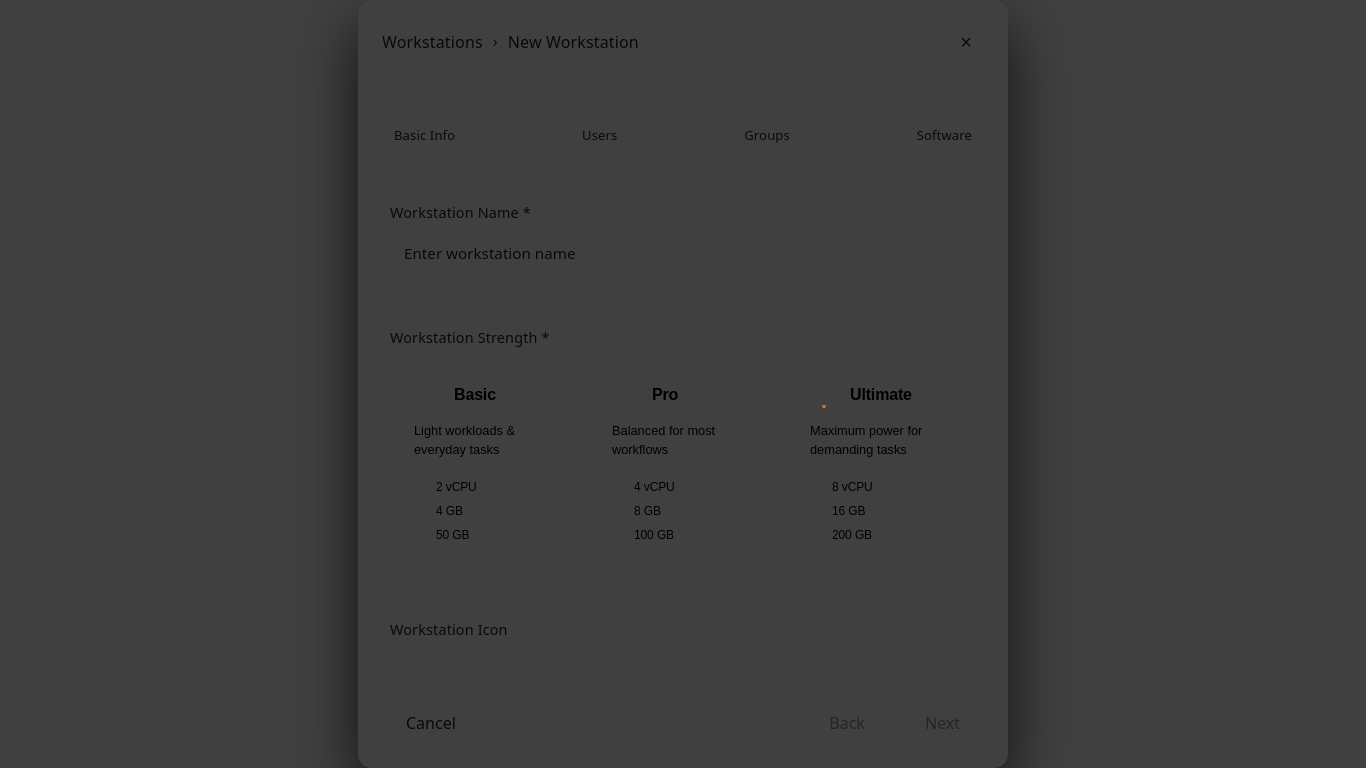
it: WorkstationModal › Navigation › should navigate to Groups step from Users step
This screenshot has width=1366, height=768.
Step 1. Type "Test" into the field with placeholder "Enter workstation name" → x=681, y=253, box x1=390 y1=231 x2=972 y2=275
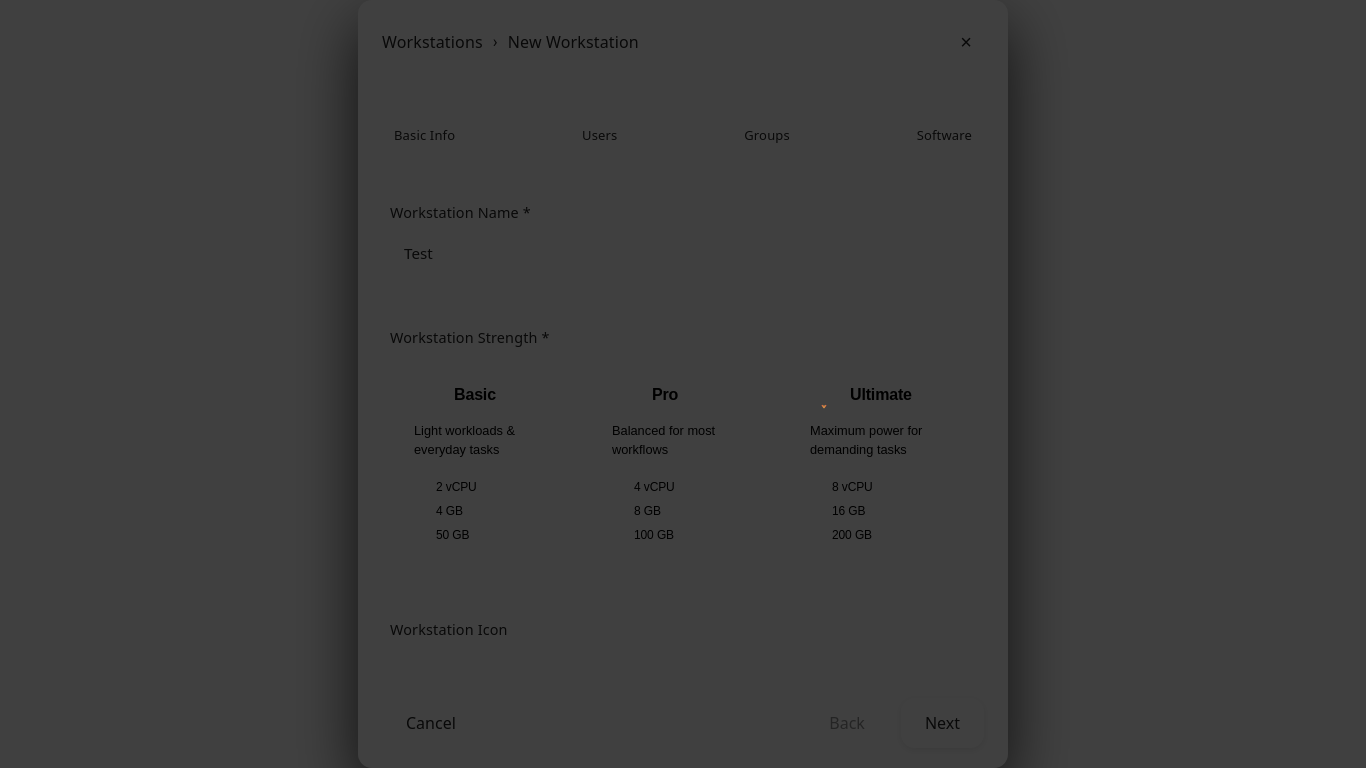
Step 2. Click the button "Next" → x=942, y=723, box x1=901 y1=698 x2=984 y2=748
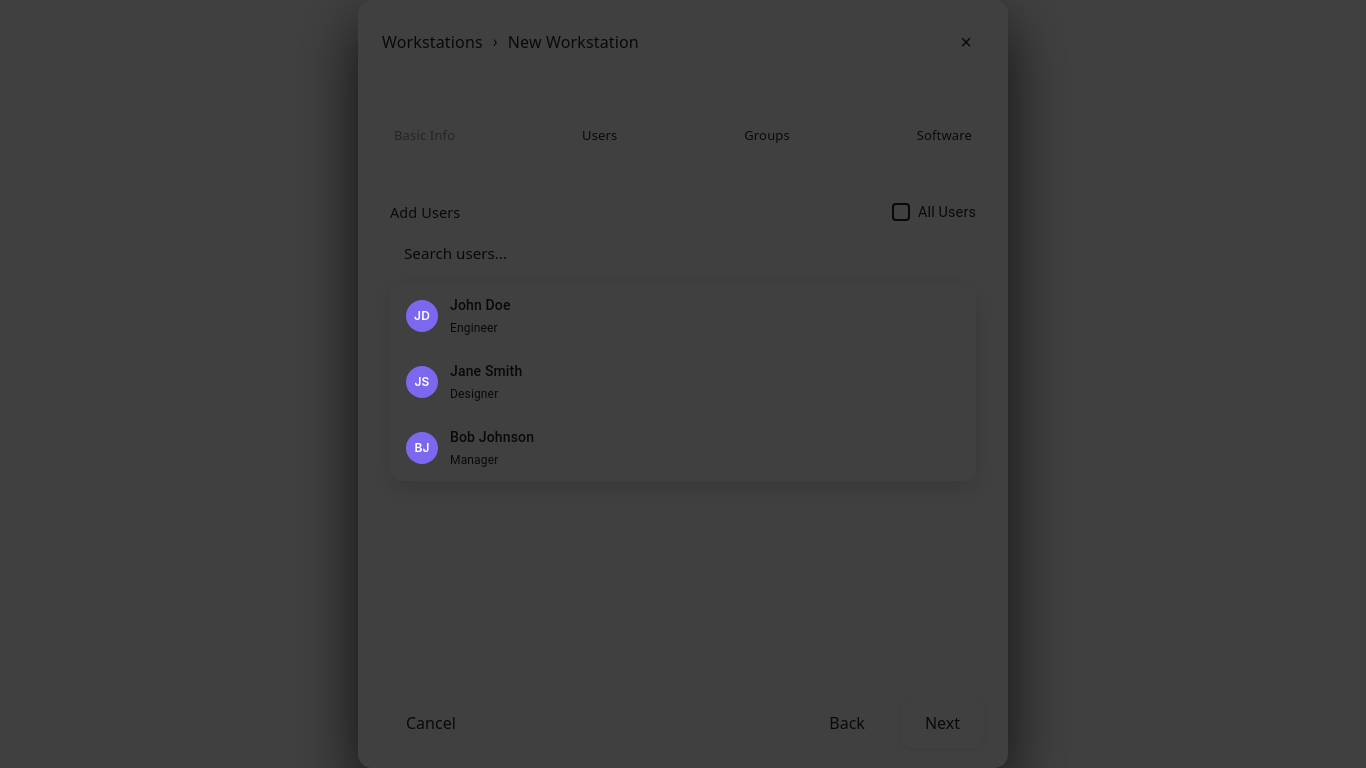
Step 3. Click the button "Next" → x=942, y=723, box x1=901 y1=698 x2=984 y2=748
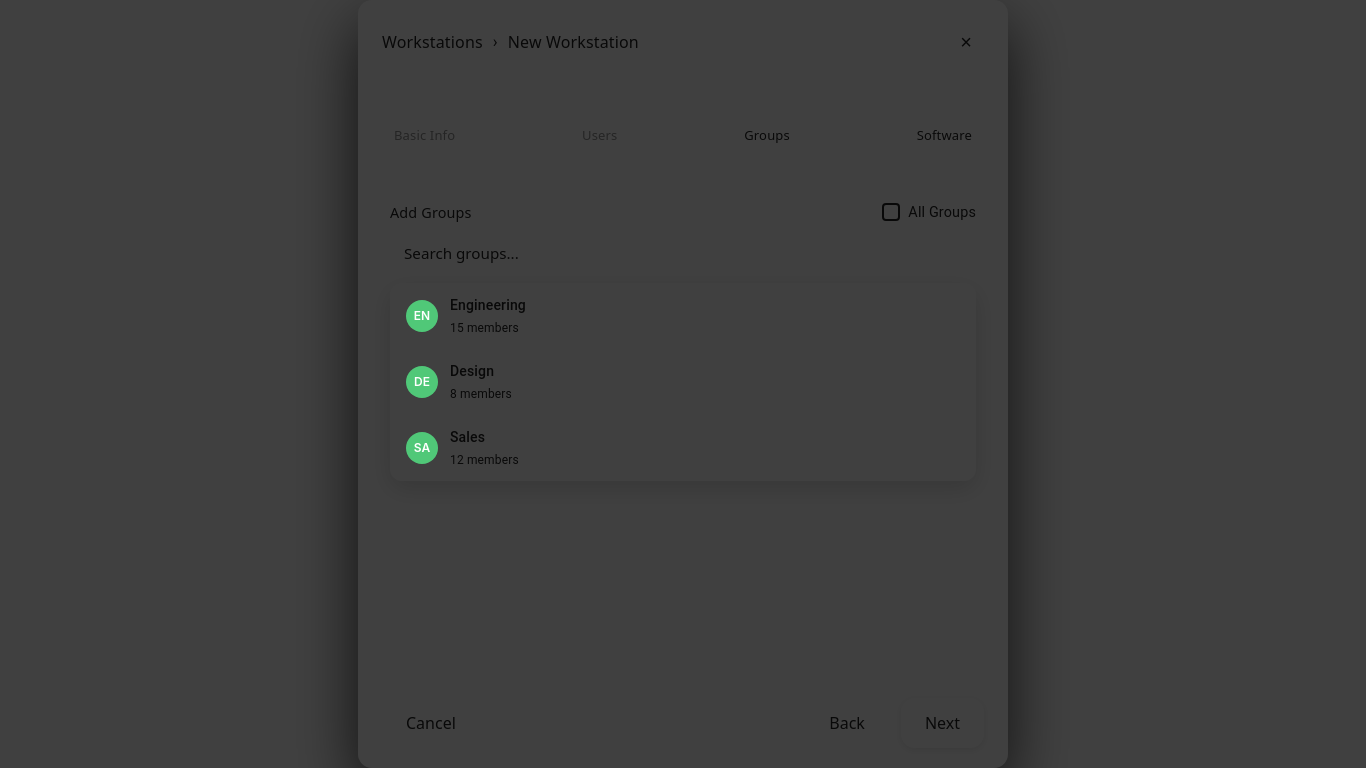
Result: the field with placeholder "Search groups..." is shown at x1=390 y1=231 x2=976 y2=275
